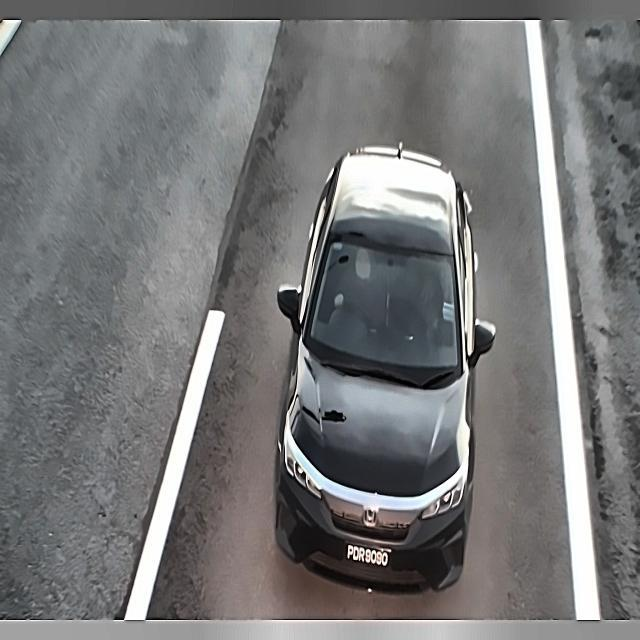car: (339, 531, 395, 576)
